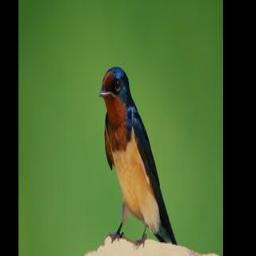Swallow: (98, 64, 178, 251)
